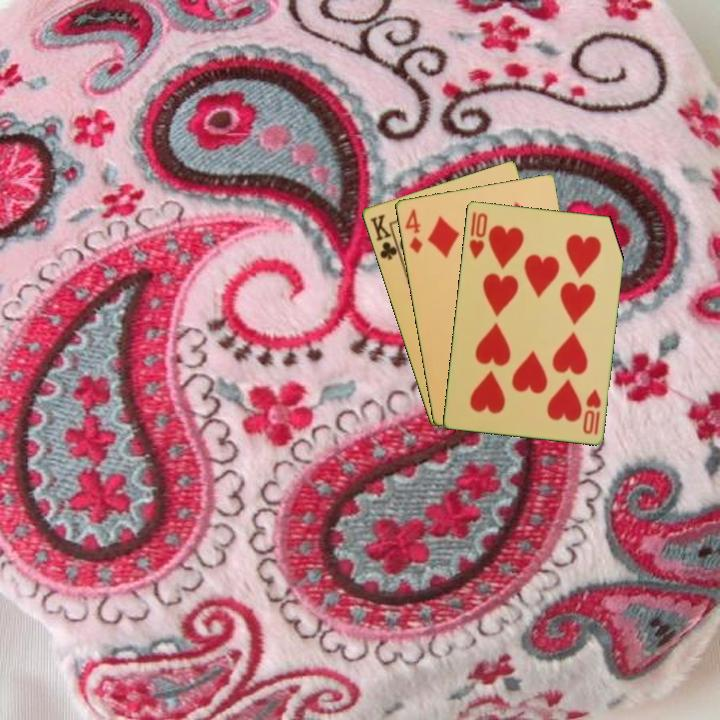10h: (465, 208, 490, 261), (579, 385, 604, 438)
4d: (401, 205, 425, 256)
Kc: (366, 211, 403, 263)
